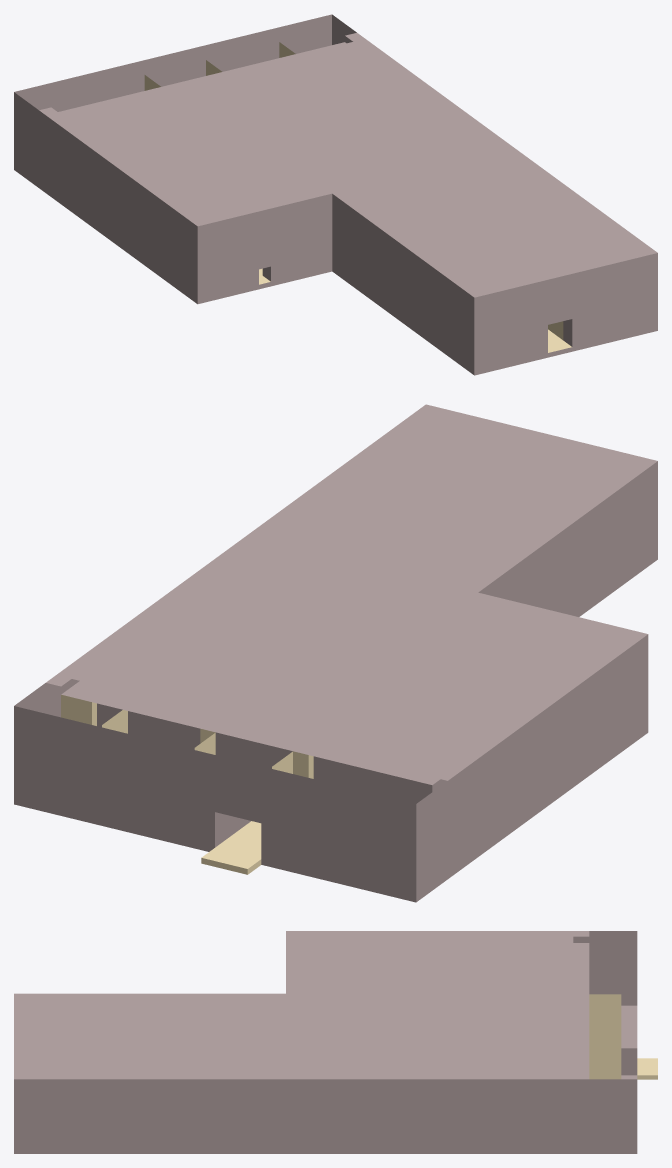
Rendered from Cave2.fbx.
3 renders of one model, top to bottom at view 1: azimuth 30°, elevation 25°; view 2: azimuth 150°, elevation 25°; view 3: azimuth 270°, elevation 25°, orthographic. The views are drawn at different scales.
Visible parts, largest first — view 1: Cave_Outside2, Cave_Inside2; view 2: Cave_Outside2, Cave_Inside2; view 3: Cave_Outside2, Cave_Inside2.
Part boxes in pixels (x1,y1,x2,y2): Cave_Outside2: (14,14,657,375); Cave_Inside2: (144,42,571,352); Cave_Outside2: (14,404,657,902); Cave_Inside2: (61,694,313,874); Cave_Outside2: (14,931,637,1153); Cave_Inside2: (589,994,657,1079).
Bounding box in the file's own units: 45 × 10.53 × 82.5.
